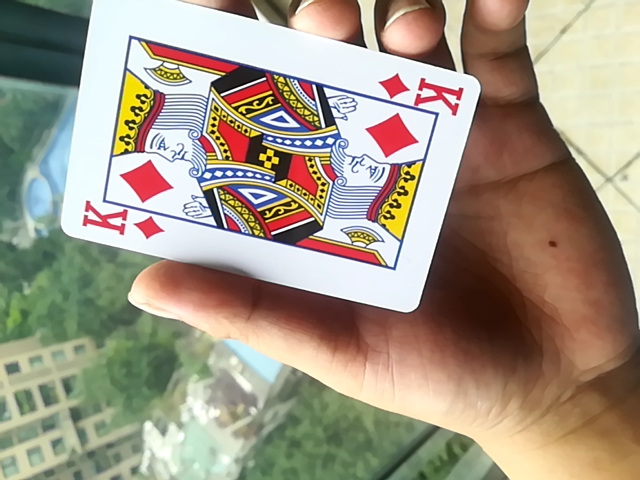fk k: (59, 3, 483, 320)
